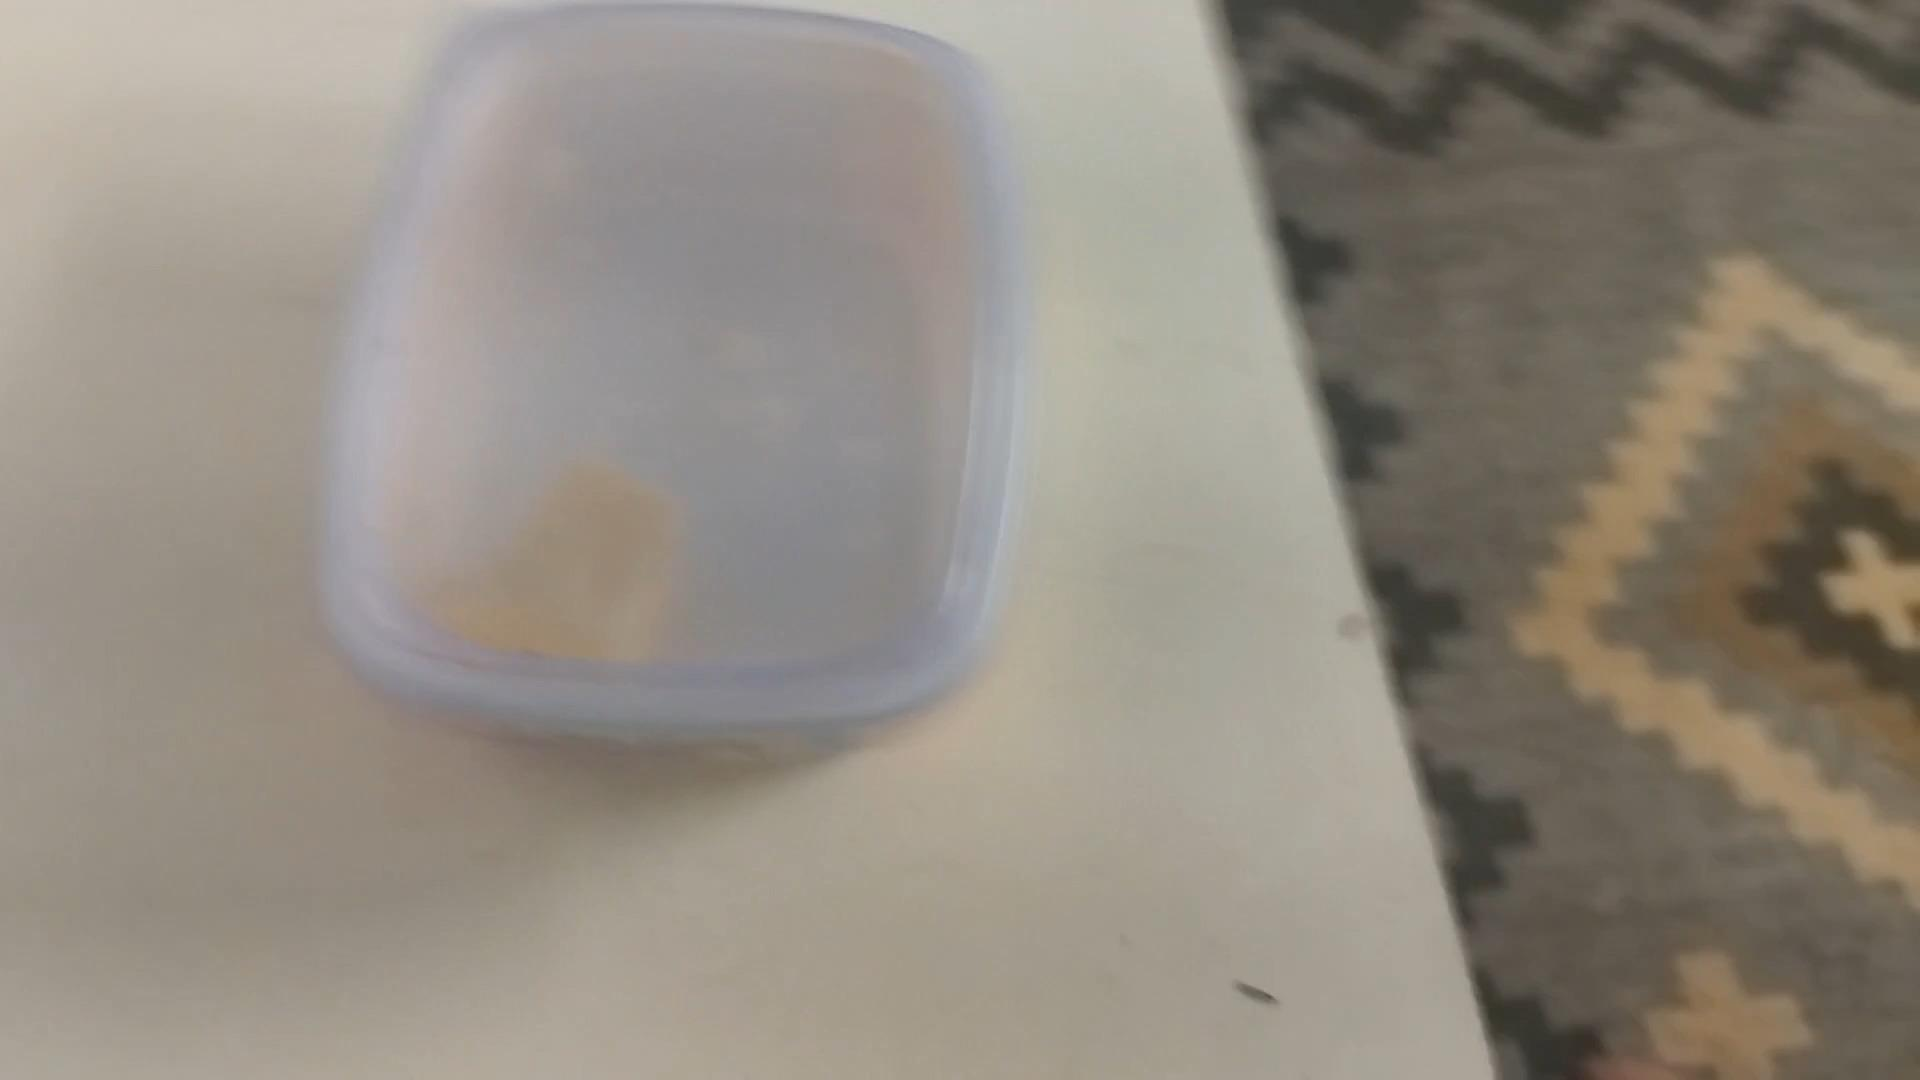butter: (324, 12, 1025, 756)
